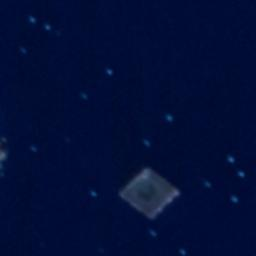square_cover: (116, 163, 181, 221)
